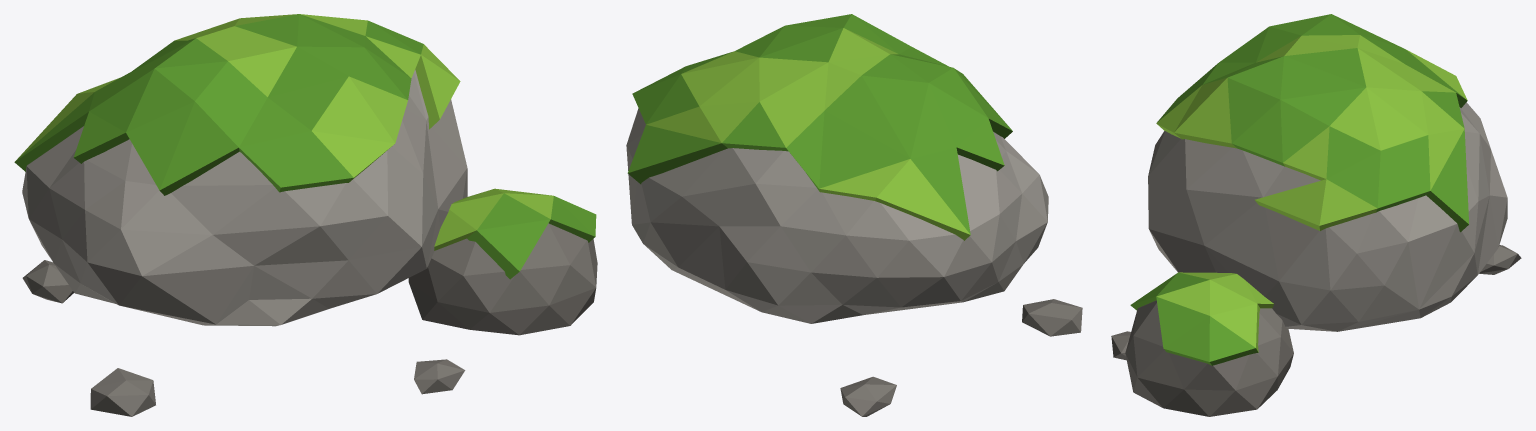
The model's file is rock_mossy.glb.
The picture shows the model from 3 angles, left to right: view 1: azimuth 30°, elevation 25°; view 2: azimuth 150°, elevation 25°; view 3: azimuth 270°, elevation 25°; orthographic projection. The views are drawn at different scales.
Parts seen in each view (by area): view 1: rock_mossy; view 2: rock_mossy; view 3: rock_mossy.
Part boxes in pixels (x1=…): rock_mossy: x1=14, y1=14, x2=597, y2=416; rock_mossy: x1=626, y1=14, x2=1082, y2=416; rock_mossy: x1=1111, y1=14, x2=1521, y2=416.
Bounding box in the file's own units: 1.66 × 0.9754 × 1.29.
